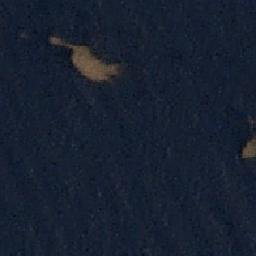debris: (72, 46, 100, 73), (240, 137, 256, 160), (97, 65, 123, 76), (84, 75, 116, 82), (49, 37, 70, 47)
